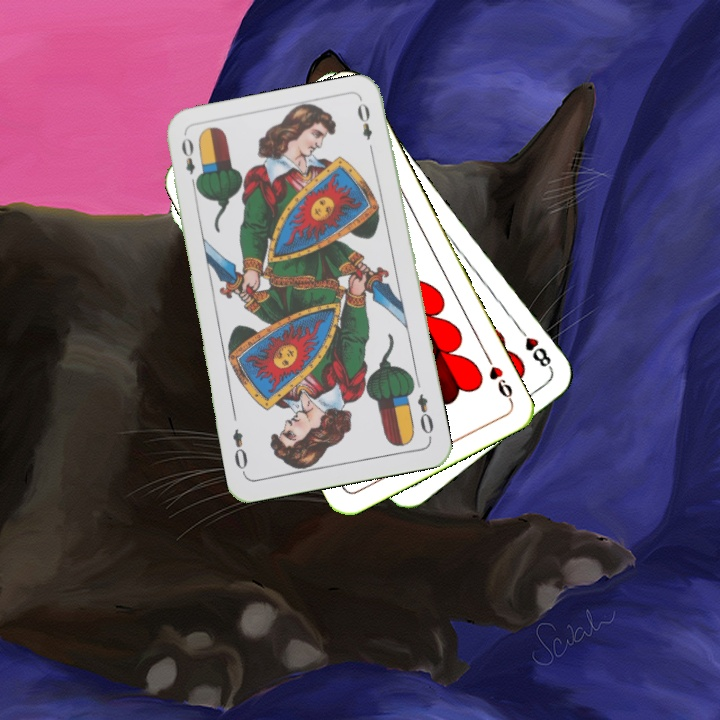EO: (177, 134, 202, 191), (413, 390, 436, 442)
H8: (513, 322, 555, 373)
H9: (481, 350, 516, 405)
